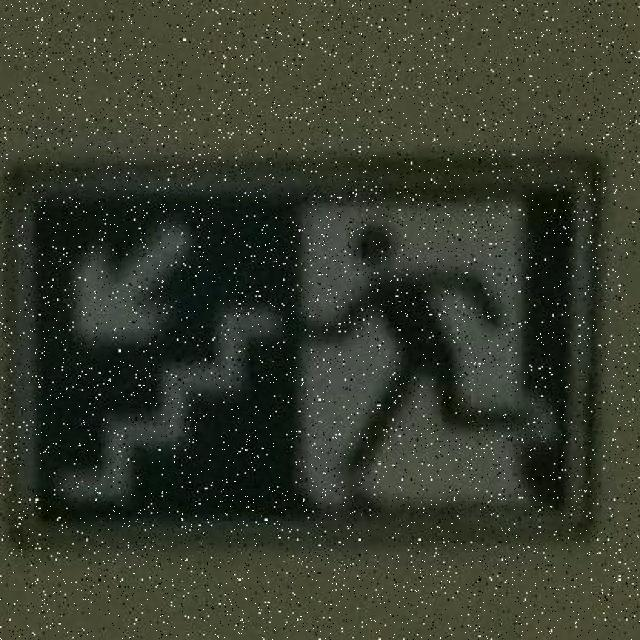emergency_exit: (2, 2, 638, 638), (12, 152, 600, 527)
